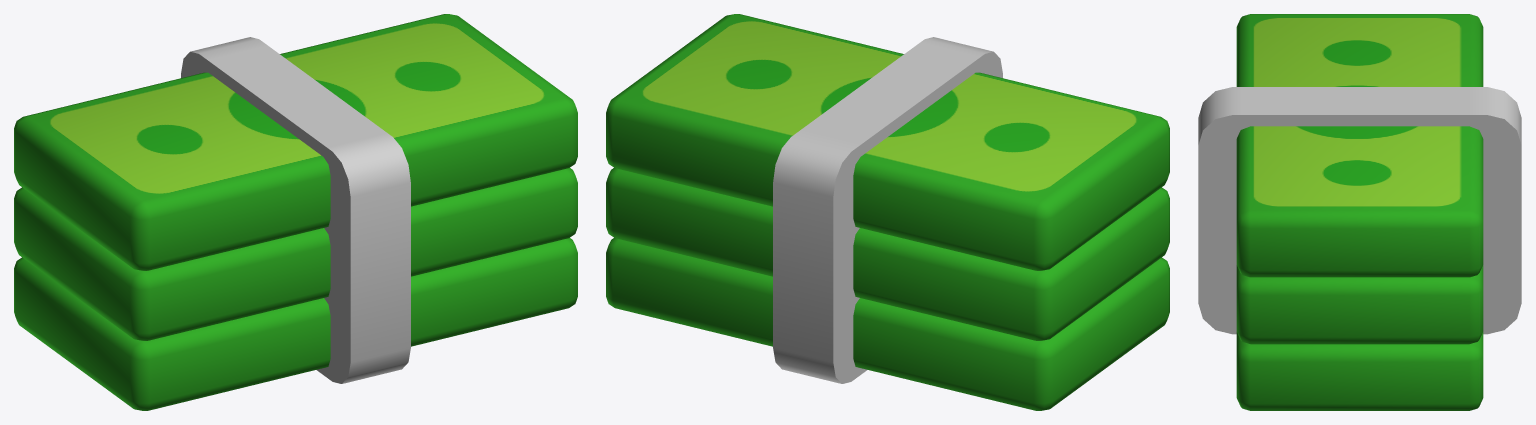
The model's file is M_Money.fbx.
The picture shows the model from 3 angles, left to right: view 1: azimuth 30°, elevation 25°; view 2: azimuth 150°, elevation 25°; view 3: azimuth 270°, elevation 25°; orthographic projection. The views are drawn at different scales.
Visible parts, largest first — view 1: M_Money; view 2: M_Money; view 3: M_Money.
Part boxes in pixels (x1,y1,x2,y2): M_Money: (14, 14, 577, 410); M_Money: (606, 14, 1169, 410); M_Money: (1198, 14, 1521, 410).
Size of the model in its own units: 1.6 by 0.7909 by 1.06.
